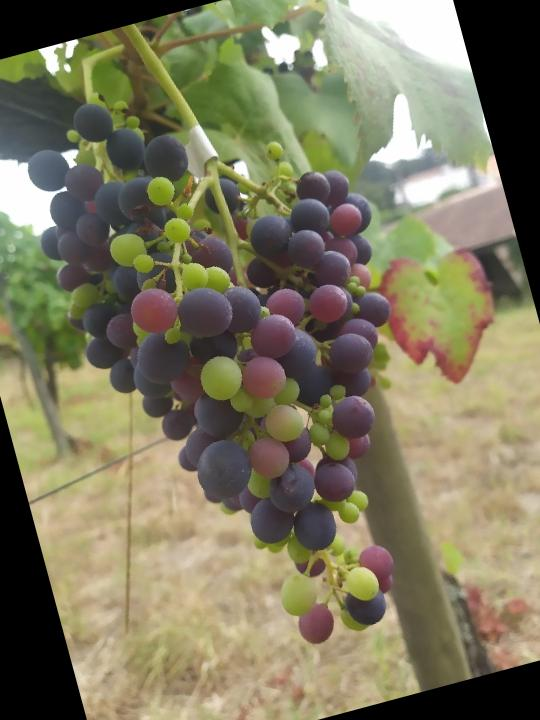grape: (2, 27, 480, 690)
